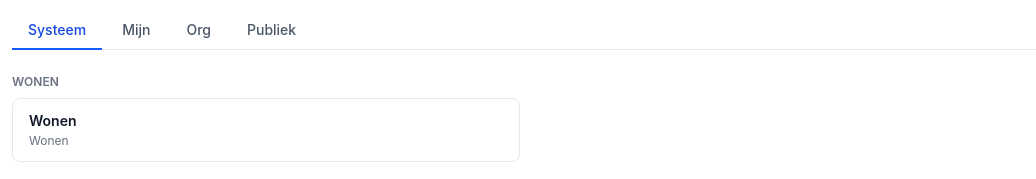
Test: <TemplateGalleryStep> › Mijn tab with no templates shows an empty hint
The image size is (1036, 179).
Click the tab "Mijn".
click(136, 31)  # box x1=106 y1=12 x2=166 y2=50
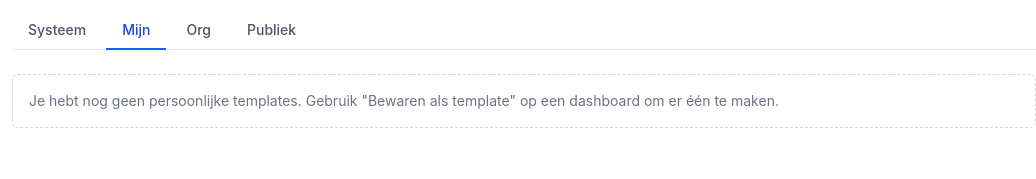
Expected: the text "Bewaren als template" is shown, x1=29 y1=92 x2=779 y2=109
